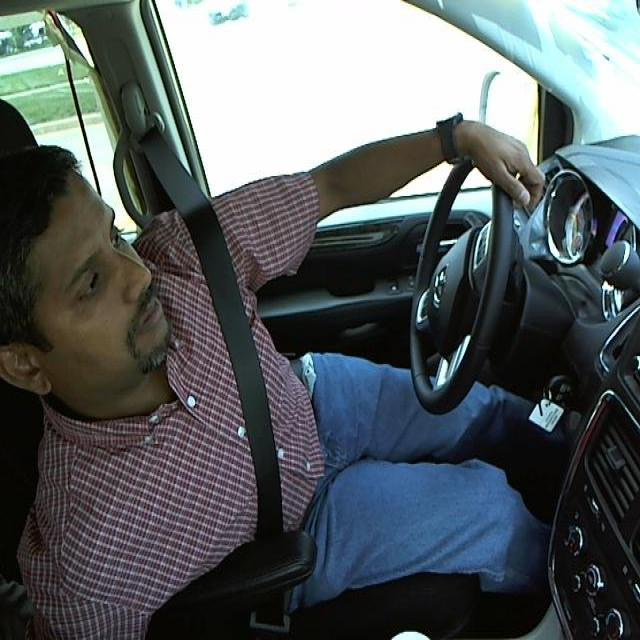seatbelt: (189, 247, 303, 560)
